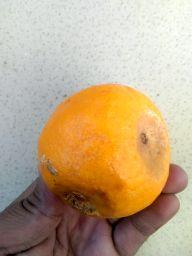Unripe: (37, 87, 169, 217)
